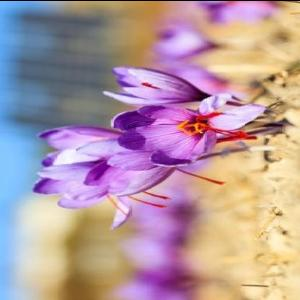Saffron: (109, 96, 261, 168), (103, 62, 217, 106), (148, 20, 214, 55)
